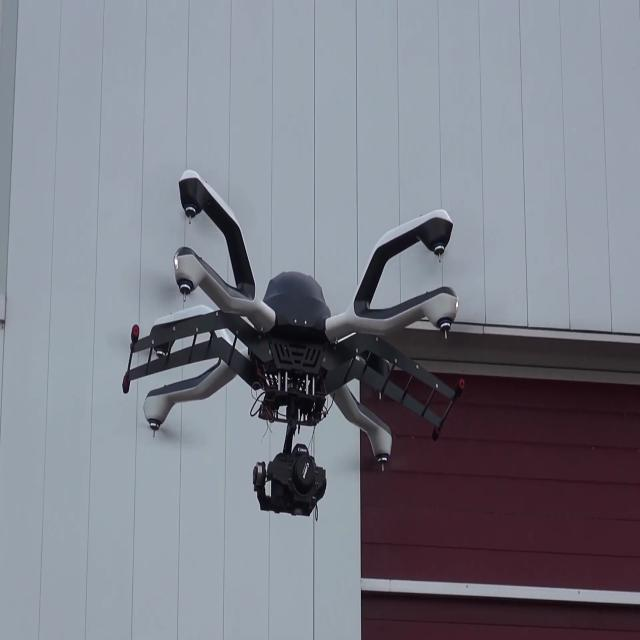drone: (113, 124, 466, 531)
